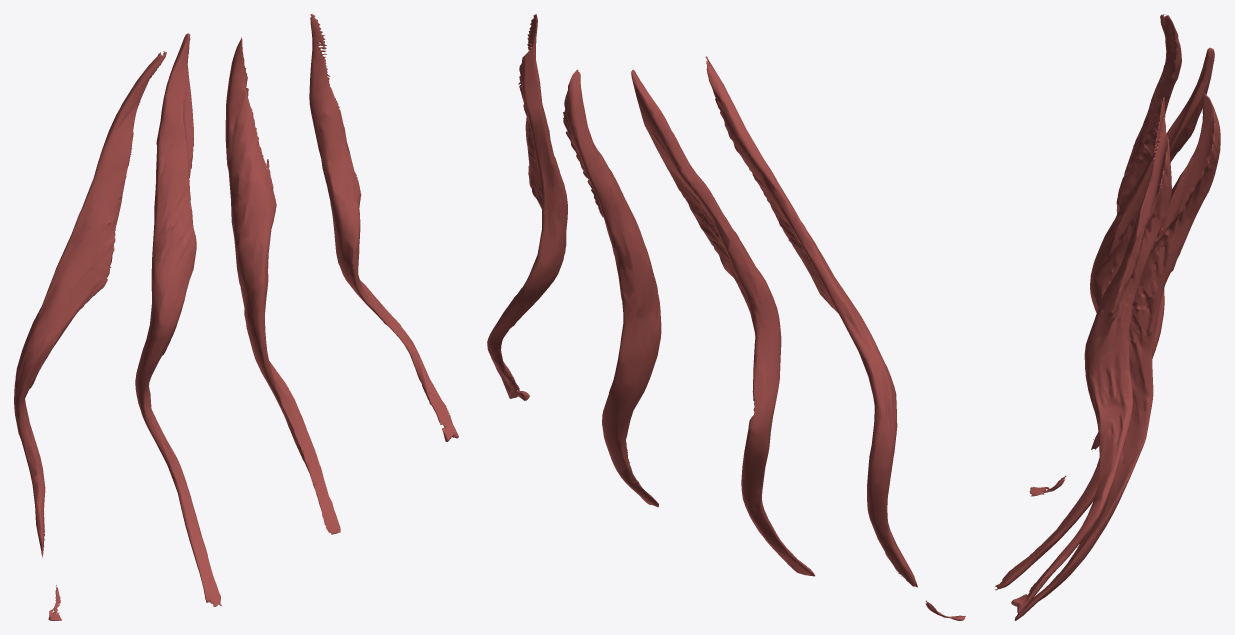
The model's file is FMA42398.glb.
The picture shows the model from 3 angles, left to right: view 1: azimuth 30°, elevation 25°; view 2: azimuth 150°, elevation 25°; view 3: azimuth 270°, elevation 25°; orthographic projection. The views are drawn at different scales.
Parts seen in each view (by area): view 1: FMA42398; view 2: FMA42398; view 3: FMA42398.
Boxes of the visible parts, x1=… form: FMA42398: x1=14, y1=14, x2=458, y2=620; FMA42398: x1=487, y1=14, x2=965, y2=620; FMA42398: x1=995, y1=14, x2=1220, y2=620.
Size of the model in its own units: 0.0759 by 0.0901 by 0.0315.
